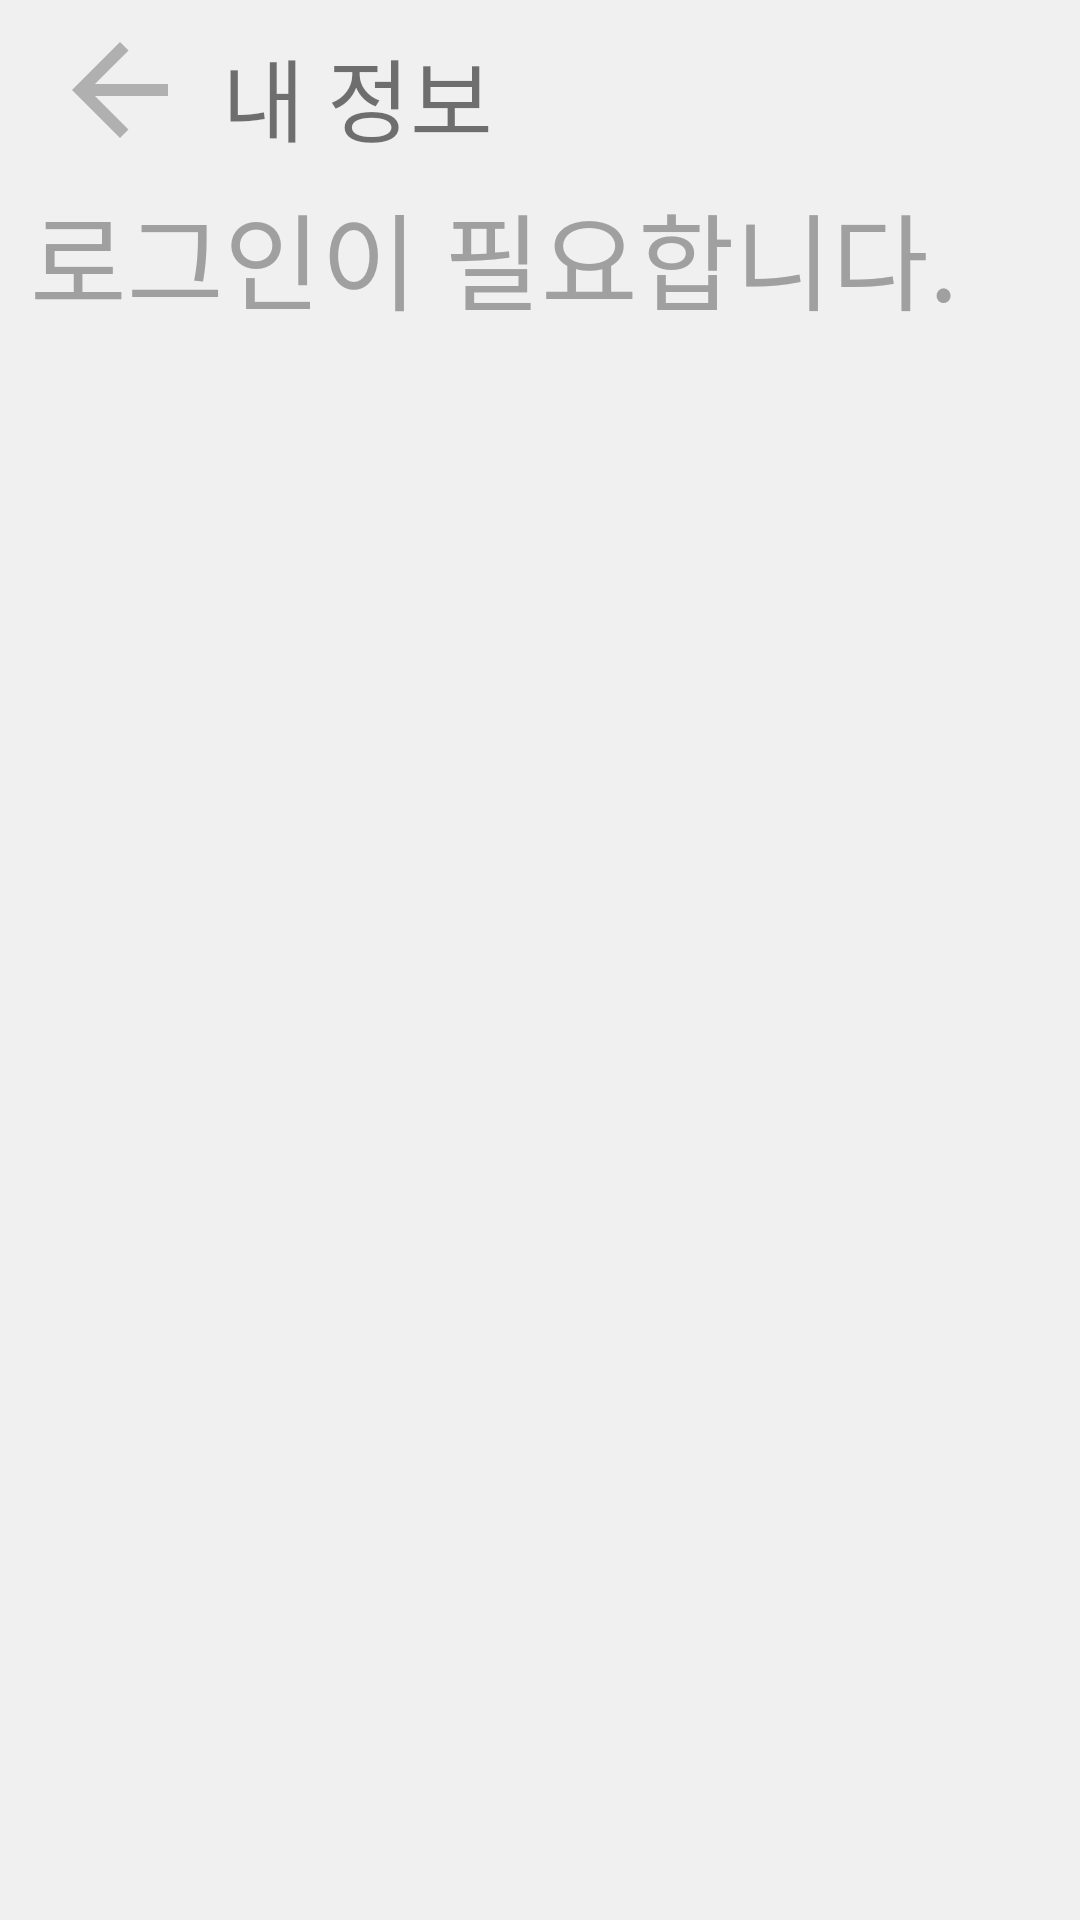

Screen size 1080px×1920px. Icon name, then its box in pixels as (x1, y1, x2, y2):
arrow back: (72, 42, 168, 138)
